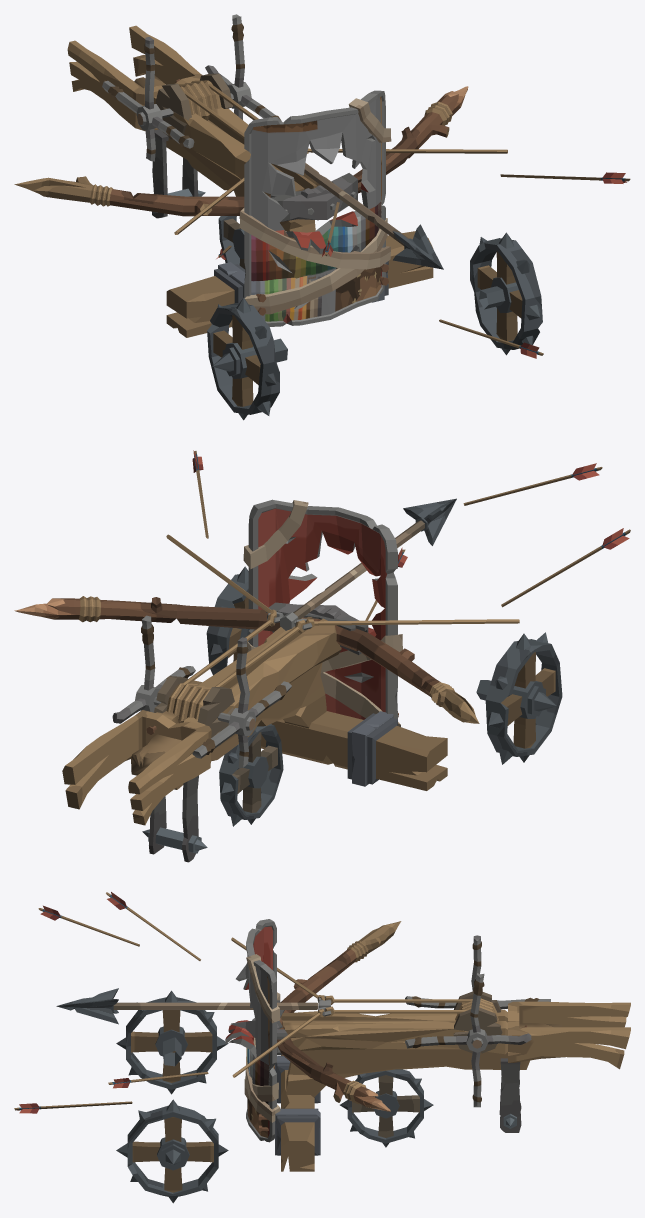
File: bog_ballista.gltf
3 views of the same model, one above another, from view 1: azimuth 30°, elevation 25°; view 2: azimuth 150°, elevation 25°; view 3: azimuth 270°, elevation 25° (orthographic). The views are drawn at different scales.
Parts seen in each view (by area): view 1: bog_ballista; view 2: bog_ballista; view 3: bog_ballista.
Boxes of the visible parts, bbox=[...] form: bog_ballista: bbox=[14, 14, 630, 420]; bog_ballista: bbox=[14, 450, 630, 862]; bog_ballista: bbox=[14, 892, 630, 1203].
Size of the model in its own units: 3.1 by 1.61 by 4.36.
Materials: 1 (1 with a texture image).
